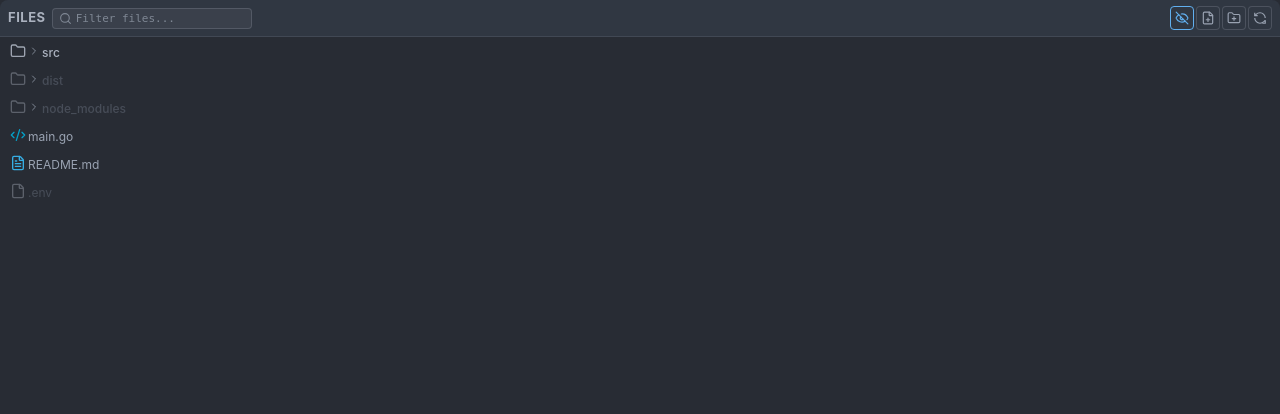
Test: FileTree background context menu › clicking a file item context menu does not show background menu
Right-click the list item with class "file-tree-item" showing "main.go" at (42, 135), box [10, 126, 73, 144]
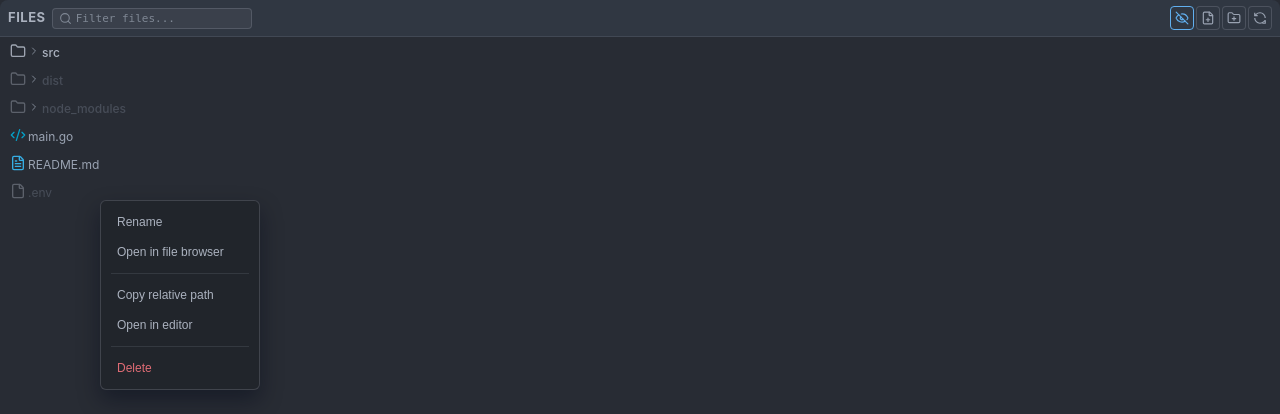
Now the element with class "context-menu" is shown, box [100, 200, 260, 390]
